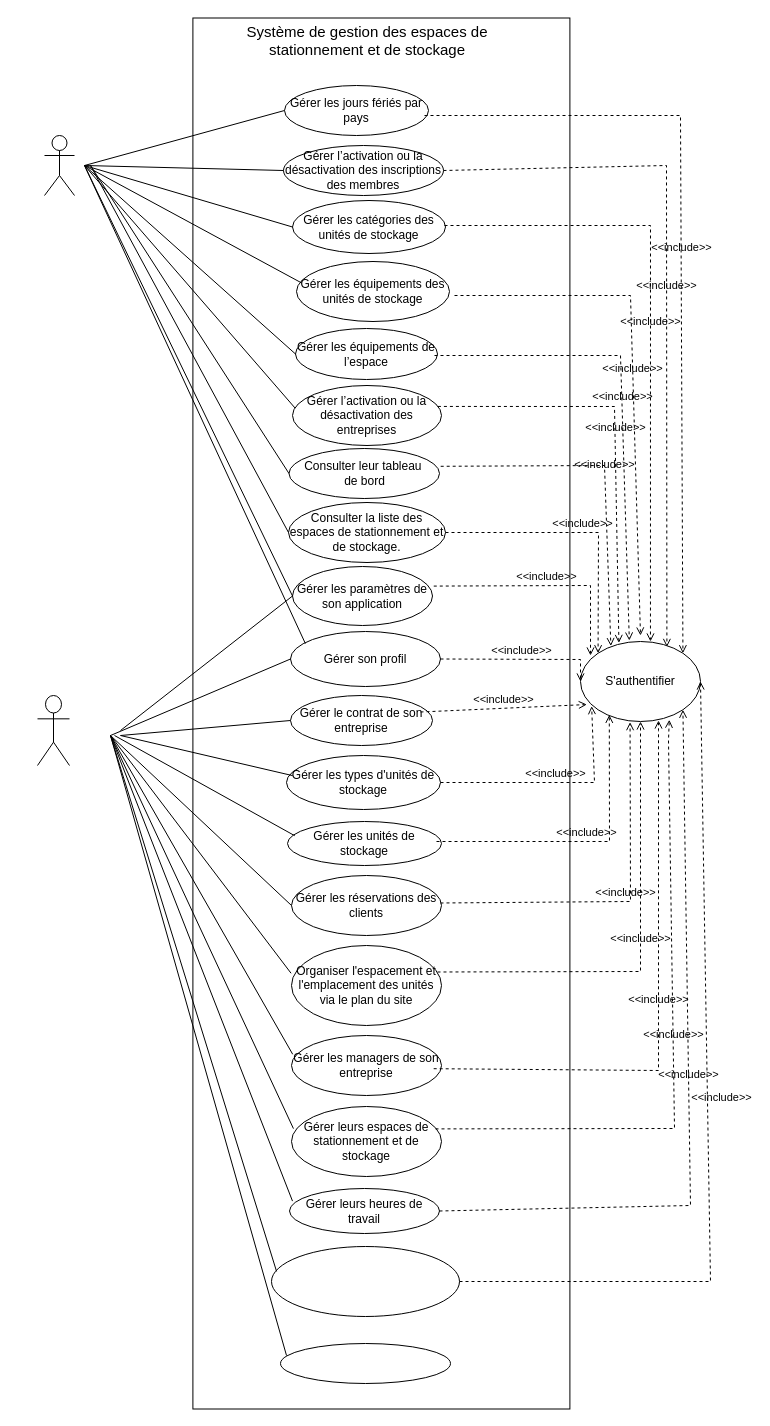
The diagram is 770 pixels wide and 1426 high, and some of its shapes have lost their labels. Here are the shapes that lost their labels. From the top down, the box of each, then its label:
(44, 134, 74, 196): Administrateur
(36, 694, 70, 766): Manager
(270, 1246, 460, 1316): Gérer leurs heures d'accès aux espaces de stationnement et de stockage.
(280, 1342, 450, 1384): S'inscrire
